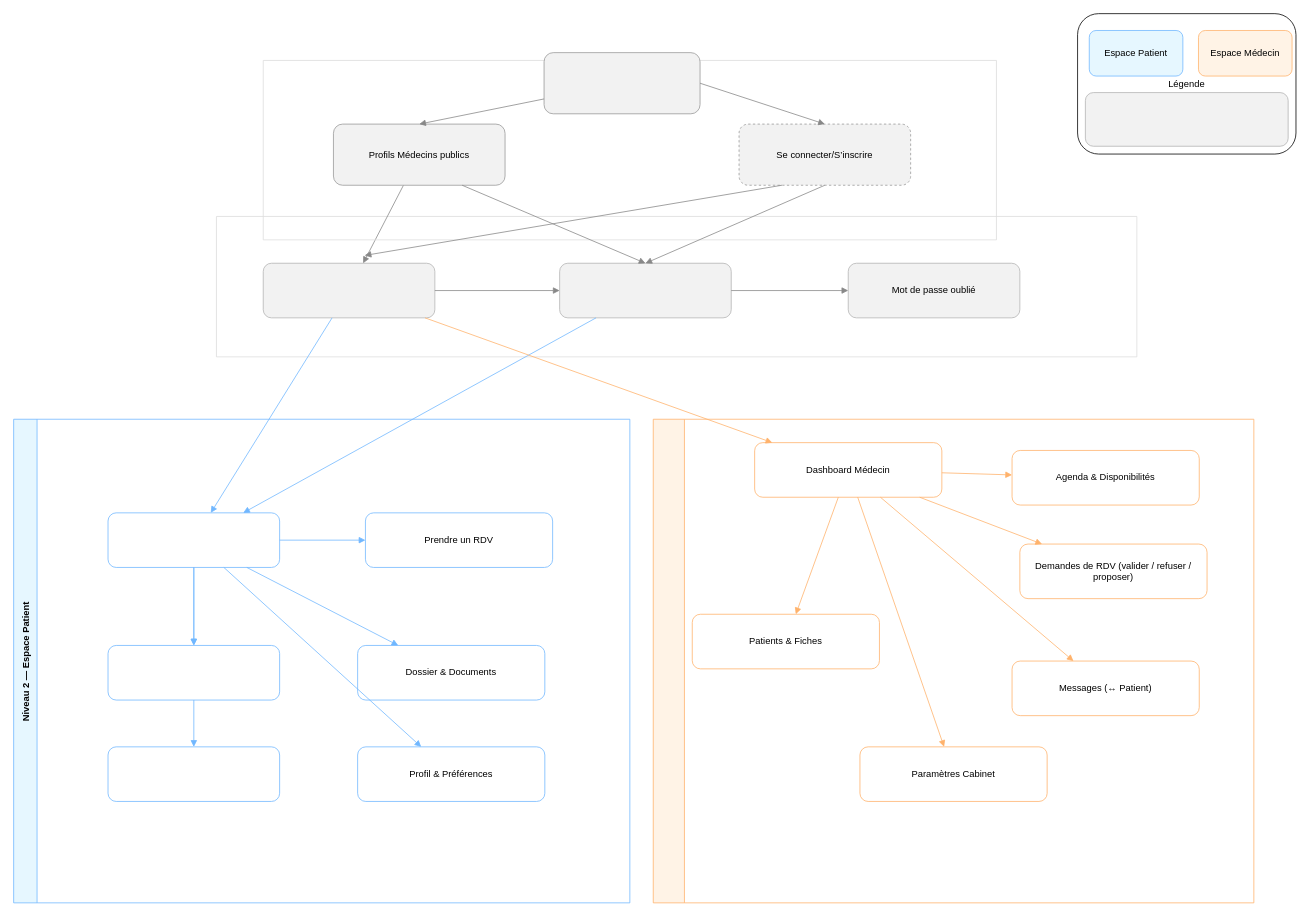
Some shapes in this 1310 by 916 pixel diagram are drawn without their labels. The shapes that lost their labels are listed below. From the top down, each one's box as (x1, y1, x2, y2) in pixels, then its label:
(543, 52, 700, 114): Accueil
(1085, 92, 1288, 146): Public/Auth commun
(262, 262, 435, 318): Connexion
(559, 262, 731, 318): Inscription Patient
(107, 512, 280, 567): Dashboard Patient
(107, 645, 280, 700): Mes Rendez-vous
(652, 418, 1254, 903): Niveau 2 — Espace Médecin
(107, 746, 280, 801): Messages (↔ Médecin)
